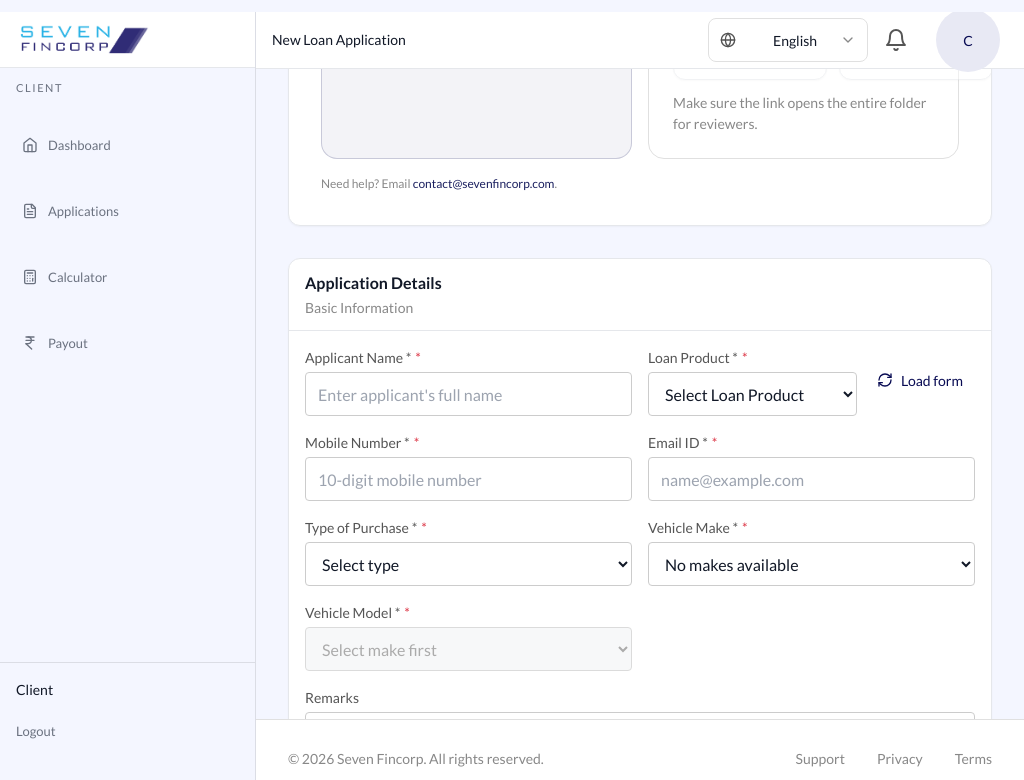
Test: NewApplication Page - P0 Tests › M2-FE-001: Dynamic Form Field Rendering › should render form fields based on form configuration
The image size is (1024, 780).
(page scrolled)
Select "Business Loan" in the dropdown with test id "loan-product-select" at (752,394), box [648,372,857,416]
(page scrolled)
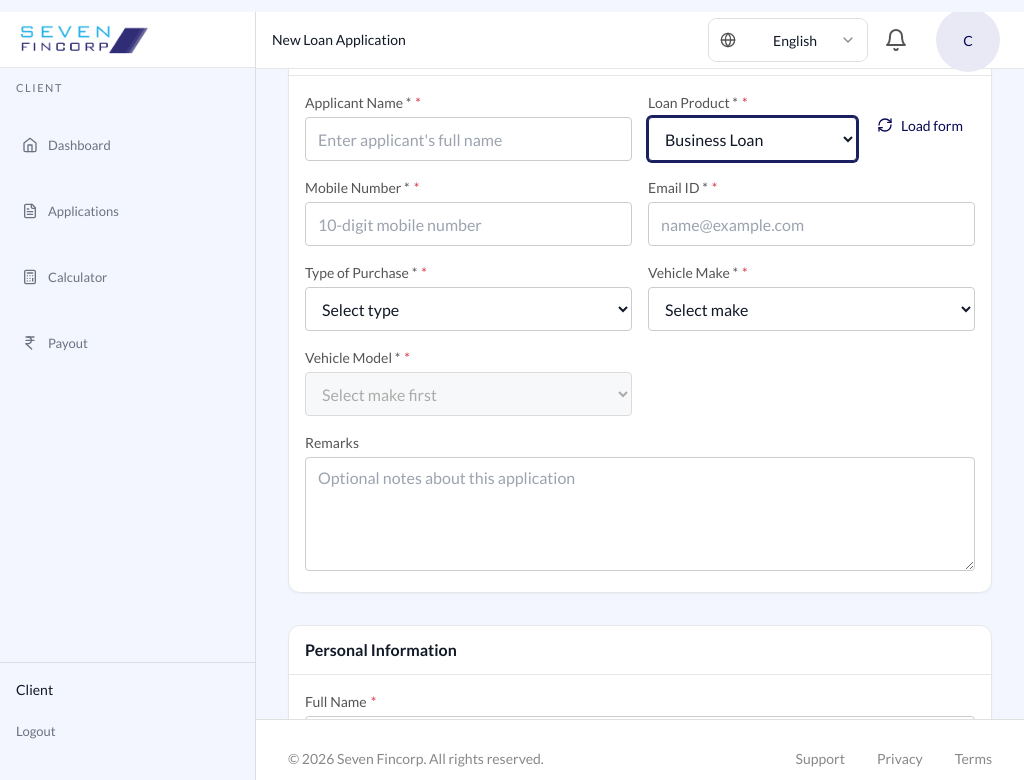
Expected: the dropdown with test id "vehicle-make-select" is shown, [648,287,975,331]
Now the text "Full Name*" is shown, box [305,693,376,710]
